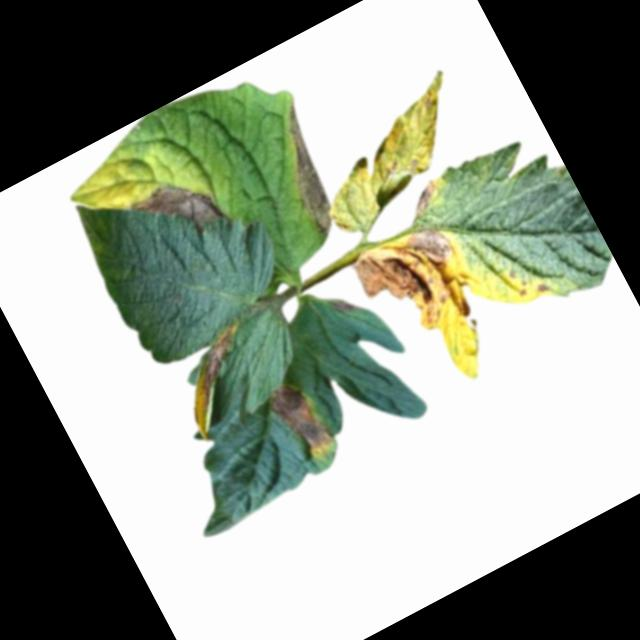Early_blight: (348, 215, 484, 350), (258, 102, 356, 240), (162, 321, 276, 438), (127, 165, 225, 255), (264, 371, 345, 464), (403, 177, 448, 220), (329, 290, 362, 322), (534, 279, 554, 298)
